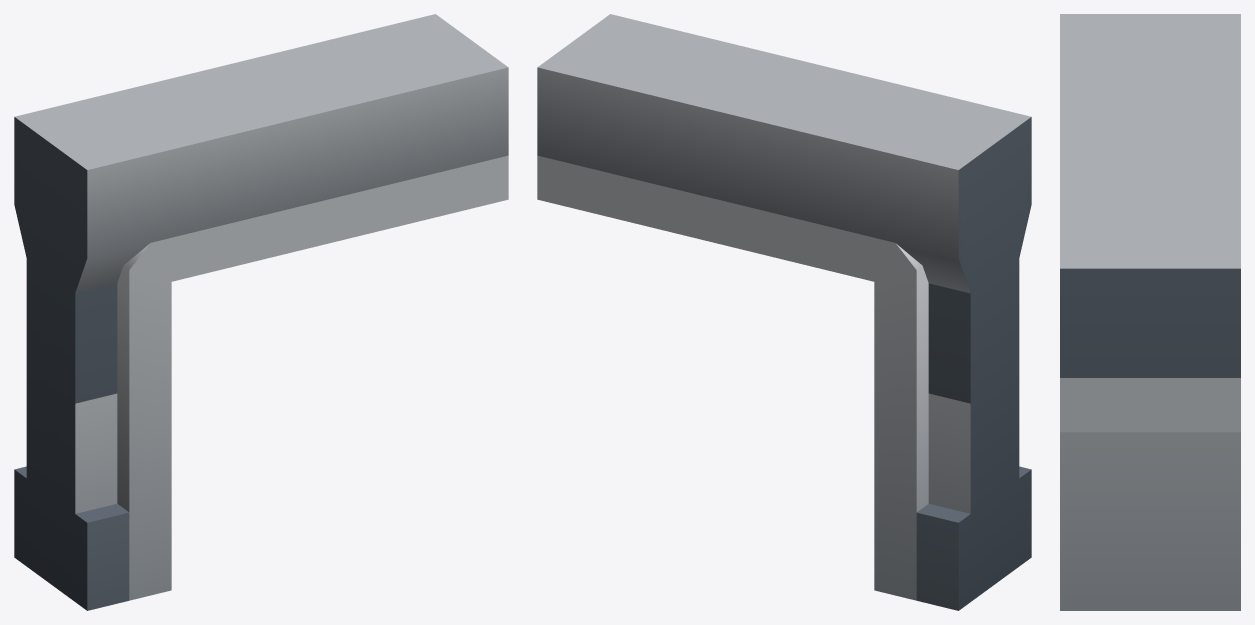
File: wall-door-edge-banner.glb
3 views of the same model, side by side, from view 1: azimuth 30°, elevation 25°; view 2: azimuth 150°, elevation 25°; view 3: azimuth 270°, elevation 25° (orthographic). The views are drawn at different scales.
Parts seen in each view (by area): view 1: wall-door-edge-banner; view 2: wall-door-edge-banner; view 3: wall-door-edge-banner.
Boxes of the visible parts, box(x1,y1,x2,y2) form: wall-door-edge-banner: box(14, 14, 508, 610); wall-door-edge-banner: box(537, 14, 1031, 610); wall-door-edge-banner: box(1060, 14, 1240, 610).
Bounding box in the file's own units: 1 × 1 × 0.3.
